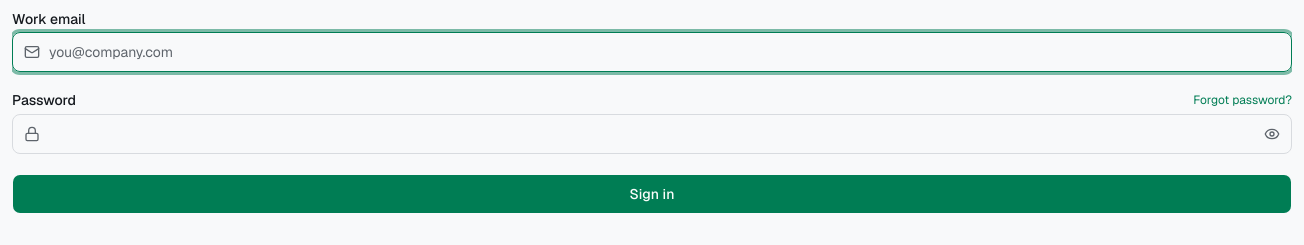
Test case: LoginForm › two-step verification › asks for a code instead of signing in when the backend requires one
The image size is (1304, 245).
In the field labelled "Work email": [652, 52] box [12,32,1292,72], type "a@b.co"
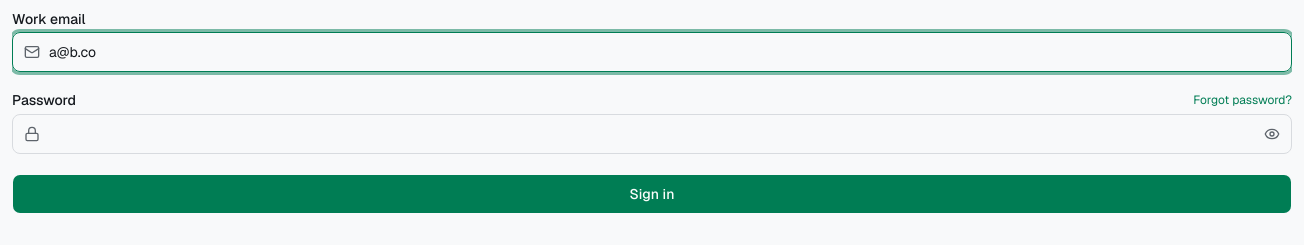
In the password field labelled "Password": [652, 134] box [12,114,1292,154], type "pw"
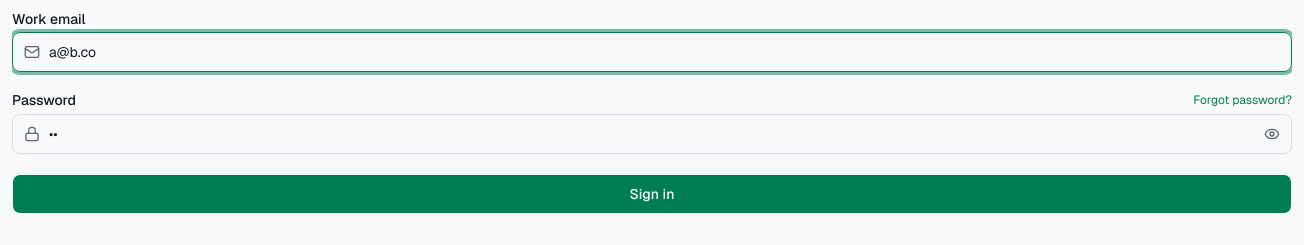
Click the button "Sign in": [652, 194] box [12,174,1292,214]
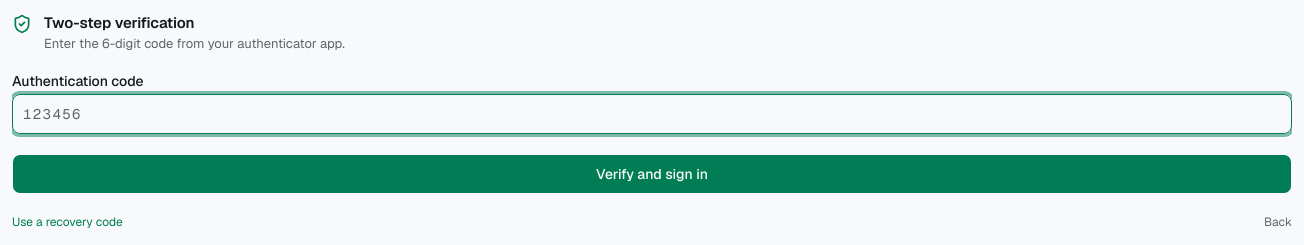
Result: the field labelled "Authentication code" is shown at [12,94,1292,134]
Result: the label labelled "Password" is gone
